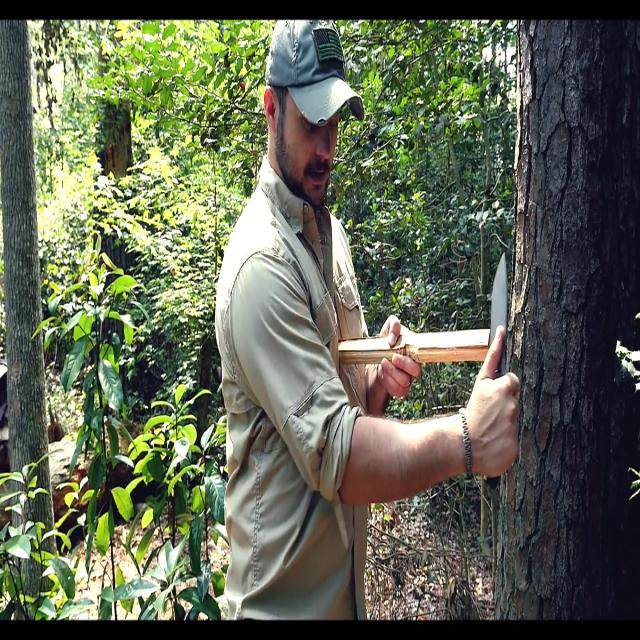knife: (490, 239, 510, 366)
